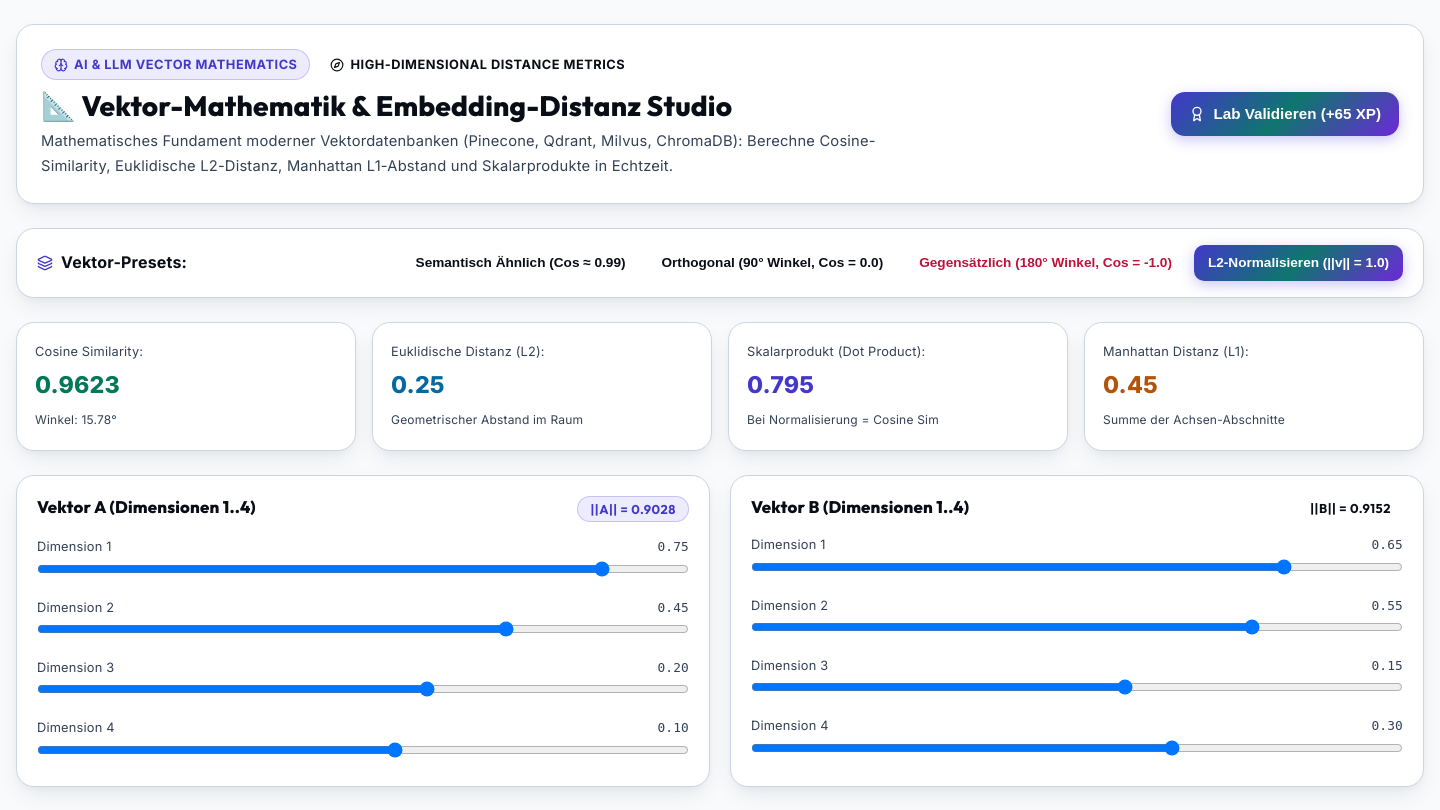
Test: VectorMathEmbeddingLab Unit Tests › validiert das Lab und vergibt 65 XP
Click the button "Lab Validieren (+65 XP)" at (1285, 114), box [1171,92,1399,136]
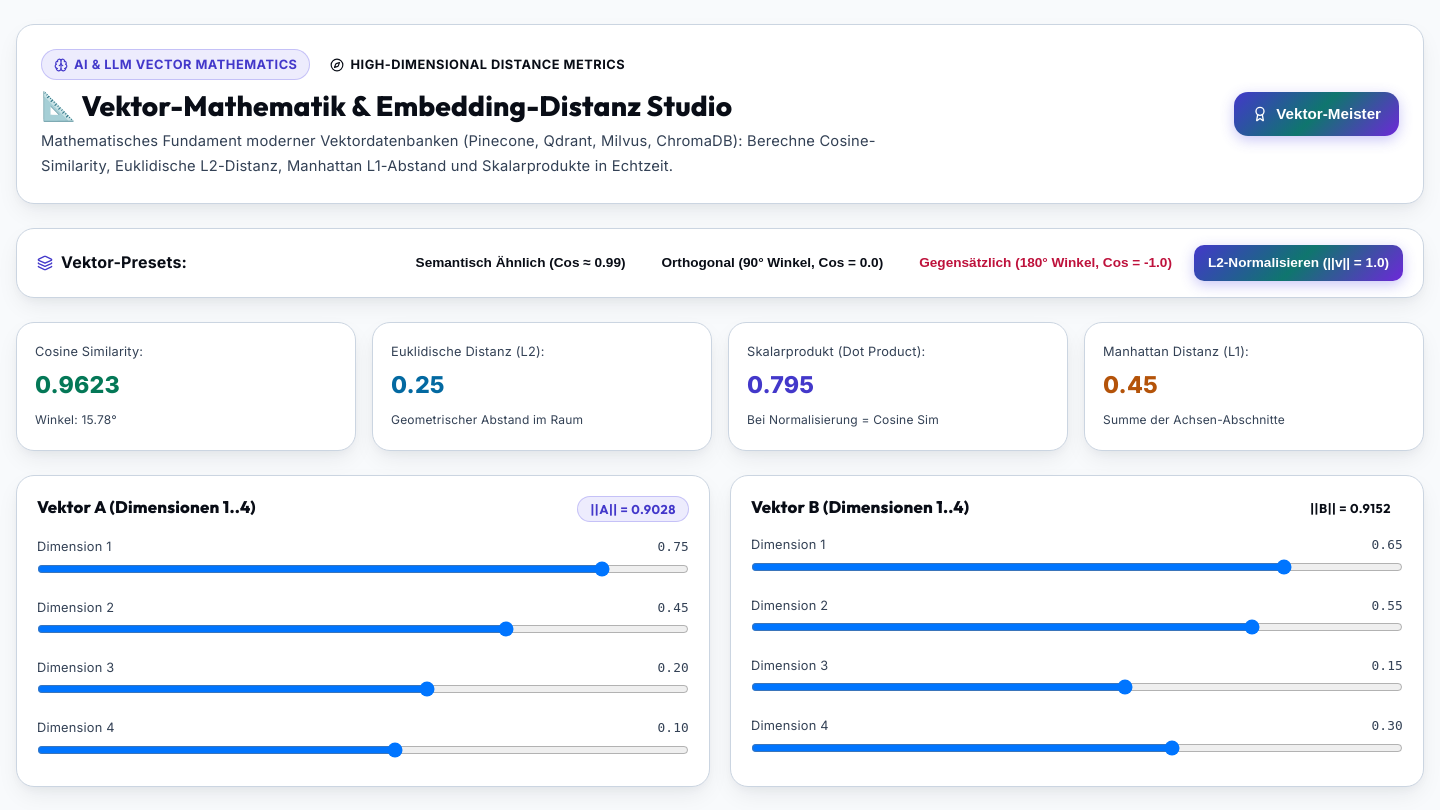
Expected: the button "Vektor-Meister" is shown, [1234,92,1399,136]
